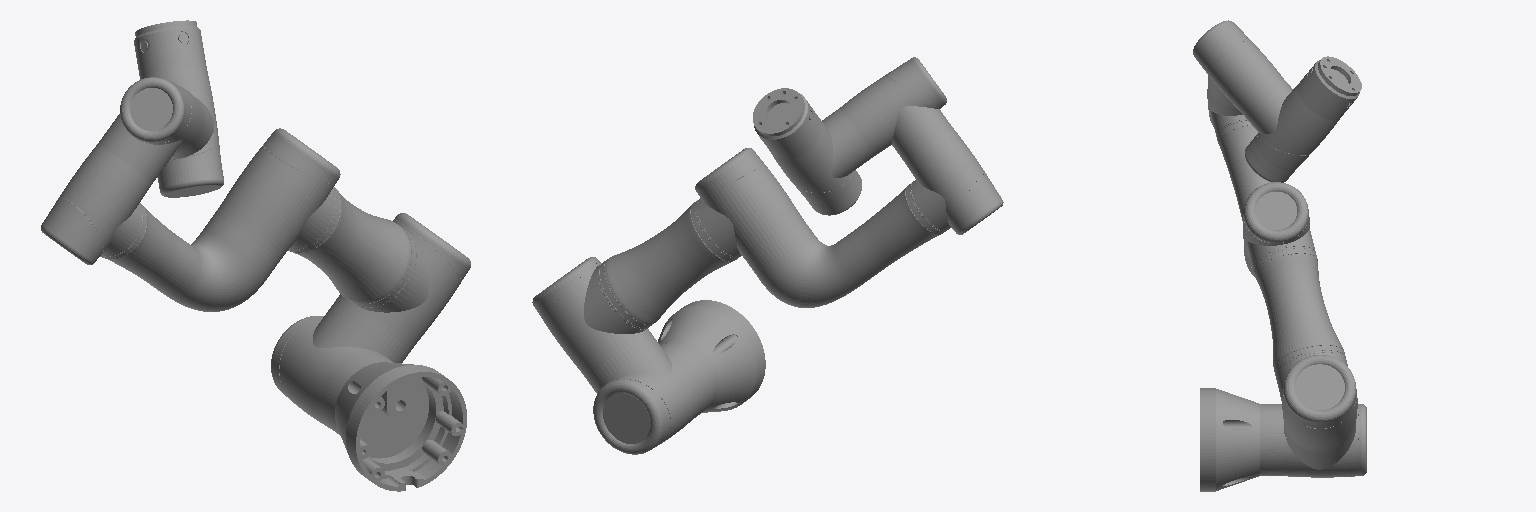
The robot description file, URDF, robot "lexium_cobot":
<?xml version='1.0' encoding='utf-8'?>
<robot name="lexium_cobot">
  <material name="silver_default">
    <color rgba="0.700 0.700 0.700 1.000" />
  </material>
  <material name="steel_satin">
    <color rgba="0.6274509803921569 0.6274509803921569 0.6274509803921569 1.0" />
  </material>
  <material name="opaque128128128">
    <color rgba="0.5019607843137255 0.5019607843137255 0.5019607843137255 1.0" />
  </material>
  <material name="opaque8234255">
    <color rgba="0.03137254901960784 0.9176470588235294 1.0 1.0" />
  </material>
  <link name="base_link">
    <inertial>
      <origin xyz="-1.79516985295832e-05 0.151105514389719 0.301538306998057" rpy="0 0 0" />
      <mass value="3.61395776119154" />
      <inertia ixx="0.00504736530150618" iyy="0.00645485524011707" izz="0.0049786607932636" ixy="-2.99057229168703e-06" iyz="8.4744786668145e-05" ixz="-7.45238623994263e-07" />
    </inertial>
    <visual>
      <origin xyz="0 0 0" rpy="0 0 0" />
      <geometry>
        <mesh filename="meshes/base_link.stl" scale="0.001 0.001 0.001" />
      </geometry>
      <material name="steel_satin" />
    </visual>
    <collision>
      <origin xyz="0 0 0" rpy="0 0 0" />
      <geometry>
        <mesh filename="meshes/base_link.stl" scale="0.001 0.001 0.001" />
      </geometry>
    </collision>
  </link>
  <link name="link1_1">
    <inertial>
      <origin xyz="0.0021986769731210743 0.06114654978338466 0.002407878971755706" rpy="0 0 0" />
      <mass value="6.94183133993744" />
      <inertia ixx="0.0120834986222533" iyy="0.00827270261468593" izz="0.0120417048097821" ixy="-4.71558628695429e-05" iyz="-5.16406557065086e-05" ixz="-0.000229534473903786" />
    </inertial>
    <visual>
      <origin xyz="-0.0 -0.18605 -0.3" rpy="0 0 0" />
      <geometry>
        <mesh filename="meshes/link1_1.stl" scale="0.001 0.001 0.001" />
      </geometry>
      <material name="steel_satin" />
    </visual>
    <collision>
      <origin xyz="-0.0 -0.18605 -0.3" rpy="0 0 0" />
      <geometry>
        <mesh filename="meshes/link1_1.stl" scale="0.001 0.001 0.001" />
      </geometry>
    </collision>
  </link>
  <link name="link2_1">
    <inertial>
      <origin xyz="-0.04086641207463965 -0.02526076643542069 0.12013524009765597" rpy="0 0 0" />
      <mass value="18.2263714660451" />
      <inertia ixx="0.111054724157452" iyy="0.20630792520748" izz="0.13115609185578" ixy="-0.0306468338100659" iyz="0.0272896376185414" ixz="0.0855224427705991" />
    </inertial>
    <visual>
      <origin xyz="-0.034052 -0.25055 -0.337292" rpy="0 0 0" />
      <geometry>
        <mesh filename="meshes/link2_1.stl" scale="0.001 0.001 0.001" />
      </geometry>
      <material name="steel_satin" />
    </visual>
    <collision>
      <origin xyz="-0.034052 -0.25055 -0.337292" rpy="0 0 0" />
      <geometry>
        <mesh filename="meshes/link2_1.stl" scale="0.001 0.001 0.001" />
      </geometry>
    </collision>
  </link>
  <link name="link3_1">
    <inertial>
      <origin xyz="-0.1293778038031144 -0.029972537517979125 0.0508468662676399" rpy="0 0 0" />
      <mass value="9.44716276125622" />
      <inertia ixx="0.0444128194190041" iyy="0.0834422152176089" izz="0.0523860618144881" ixy="-0.0127629729599289" iyz="0.0114022871624407" ixz="0.0349152547372071" />
    </inertial>
    <visual>
      <origin xyz="0.139553 -0.196049 -0.502925" rpy="0 0 0" />
      <geometry>
        <mesh filename="meshes/link3_1.stl" scale="0.001 0.001 0.001" />
      </geometry>
      <material name="steel_satin" />
    </visual>
    <collision>
      <origin xyz="0.139553 -0.196049 -0.502925" rpy="0 0 0" />
      <geometry>
        <mesh filename="meshes/link3_1.stl" scale="0.001 0.001 0.001" />
      </geometry>
    </collision>
  </link>
  <link name="link4_1">
    <inertial>
      <origin xyz="0.033981541796566817 0.008757011640967538 0.020888183603302246" rpy="0 0 0" />
      <mass value="3.87176073706246" />
      <inertia ixx="0.00450576060275387" iyy="0.00458656143301983" izz="0.00497596362049435" ixy="-0.00125667637032076" iyz="0.000980271401578137" ixz="0.000870265587519237" />
    </inertial>
    <visual>
      <origin xyz="0.292986 -0.14476 -0.664356" rpy="0 0 0" />
      <geometry>
        <mesh filename="meshes/link4_1.stl" scale="0.001 0.001 0.001" />
      </geometry>
      <material name="steel_satin" />
    </visual>
    <collision>
      <origin xyz="0.292986 -0.14476 -0.664356" rpy="0 0 0" />
      <geometry>
        <mesh filename="meshes/link4_1.stl" scale="0.001 0.001 0.001" />
      </geometry>
    </collision>
  </link>
  <link name="LINK5_1">
    <inertial>
      <origin xyz="0.02515402303233233 0.03494964400624864 -0.0051725179598975934" rpy="0 0 0" />
      <mass value="5.07662819267861" />
      <inertia ixx="0.0122560534206833" iyy="0.00932613016589956" izz="0.00657314891363592" ixy="-0.000916656335589072" iyz="-0.00424498081654923" ixz="-0.00108665355332227" />
    </inertial>
    <visual>
      <origin xyz="0.22108 -0.192071 -0.654896" rpy="0 0 0" />
      <geometry>
        <mesh filename="meshes/LINK5_1.stl" scale="0.001 0.001 0.001" />
      </geometry>
      <material name="steel_satin" />
    </visual>
    <collision>
      <origin xyz="0.22108 -0.192071 -0.654896" rpy="0 0 0" />
      <geometry>
        <mesh filename="meshes/LINK5_1.stl" scale="0.001 0.001 0.001" />
      </geometry>
    </collision>
  </link>
  <link name="gripper_finger_1_1">
    <inertial>
      <origin xyz="0.00168468893283244 0.03002158316308645 0.017931237582129" rpy="0 0 0" />
      <mass value="0.150880076877717" />
      <inertia ixx="0.000106067907401919" iyy="6.59674977273872e-05" izz="5.72022355376268e-05" ixy="4.61443985702668e-06" iyz="-4.59479751008865e-05" ixz="2.01096813705337e-06" />
    </inertial>
    <visual>
      <origin xyz="0.158171 -0.286394 -0.807959" rpy="0 0 0" />
      <geometry>
        <mesh filename="meshes/gripper_finger_1_1.stl" scale="0.001 0.001 0.001" />
      </geometry>
      <material name="opaque8234255" />
    </visual>
    <collision>
      <origin xyz="0.158171 -0.286394 -0.807959" rpy="0 0 0" />
      <geometry>
        <mesh filename="meshes/gripper_finger_1_1.stl" scale="0.001 0.001 0.001" />
      </geometry>
    </collision>
  </link>
  <link name="gripper_finger_2_1">
    <inertial>
      <origin xyz="0.007391643695090211 0.02716441349865817 0.02081065870123655" rpy="0 0 0" />
      <mass value="0.150880076877717" />
      <inertia ixx="0.000105006494743209" iyy="7.69111146820128e-05" izz="4.73200312417141e-05" ixy="-4.6116504817343e-06" iyz="-4.31422749654076e-05" ixz="-1.00349175395816e-05" />
    </inertial>
    <visual>
      <origin xyz="0.138522 -0.30756 -0.790017" rpy="0 0 0" />
      <geometry>
        <mesh filename="meshes/gripper_finger_2_1.stl" scale="0.001 0.001 0.001" />
      </geometry>
      <material name="opaque8234255" />
    </visual>
    <collision>
      <origin xyz="0.138522 -0.30756 -0.790017" rpy="0 0 0" />
      <geometry>
        <mesh filename="meshes/gripper_finger_2_1.stl" scale="0.001 0.001 0.001" />
      </geometry>
    </collision>
  </link>
  <link name="gripper_finger_3_1">
    <inertial>
      <origin xyz="0.013562467977353804 0.022993721881954976 0.022649342570990383" rpy="0 0 0" />
      <mass value="0.150880076877717" />
      <inertia ixx="0.00010413072305776" iyy="7.93304287073082e-05" izz="4.57764889018261e-05" ixy="-6.10553324077376e-06" iyz="-4.19243591121207e-05" ixz="-1.27562578668278e-05" />
    </inertial>
    <visual>
      <origin xyz="0.216087 -0.325537 -0.790707" rpy="0 0 0" />
      <geometry>
        <mesh filename="meshes/gripper_finger_3_1.stl" scale="0.001 0.001 0.001" />
      </geometry>
      <material name="opaque8234255" />
    </visual>
    <collision>
      <origin xyz="0.216087 -0.325537 -0.790707" rpy="0 0 0" />
      <geometry>
        <mesh filename="meshes/gripper_finger_3_1.stl" scale="0.001 0.001 0.001" />
      </geometry>
    </collision>
  </link>
  <link name="gripper_finger_4_1">
    <inertial>
      <origin xyz="0.01356278786088641 0.02299421952763131 0.0226490479149144" rpy="0 0 0" />
      <mass value="0.150880076877717" />
      <inertia ixx="0.000104130723057802" iyy="7.93304287073082e-05" izz="4.57764889018296e-05" ixy="-6.10553324077029e-06" iyz="-4.19243591121346e-05" ixz="-1.27562578668278e-05" />
    </inertial>
    <visual>
      <origin xyz="0.196438 -0.346702 -0.772765" rpy="0 0 0" />
      <geometry>
        <mesh filename="meshes/gripper_finger_4_1.stl" scale="0.001 0.001 0.001" />
      </geometry>
      <material name="opaque8234255" />
    </visual>
    <collision>
      <origin xyz="0.196438 -0.346702 -0.772765" rpy="0 0 0" />
      <geometry>
        <mesh filename="meshes/gripper_finger_4_1.stl" scale="0.001 0.001 0.001" />
      </geometry>
    </collision>
  </link>
  <link name="gripper_base_1">
    <inertial>
      <origin xyz="0.005484957256052081 0.022455029425535122 0.03248851137340725" rpy="0 0 0" />
      <mass value="1.09820473983434" />
      <inertia ixx="0.000905228673459435" iyy="0.000804641824742269" izz="0.000665029281367885" ixy="1.45784296323864e-05" iyz="-0.000205635358270534" ixz="-7.70043981378754e-05" />
    </inertial>
    <visual>
      <origin xyz="0.18353 -0.273357 -0.713266" rpy="0 0 0" />
      <geometry>
        <mesh filename="meshes/gripper_base_1.stl" scale="0.001 0.001 0.001" />
      </geometry>
      <material name="opaque128128128" />
    </visual>
    <collision>
      <origin xyz="0.18353 -0.273357 -0.713266" rpy="0 0 0" />
      <geometry>
        <mesh filename="meshes/gripper_base_1.stl" scale="0.001 0.001 0.001" />
      </geometry>
    </collision>
  </link>
  <joint name="joint_1" type="revolute">
    <origin xyz="0.0 0.18605 0.3" rpy="0 0 0" />
    <parent link="base_link" />
    <child link="link1_1" />
    <axis xyz="-0.0 -1.0 0.0" />
    <limit lower="-3.141593" upper="3.141593" effort="100" velocity="1.0" />
  </joint>
  <joint name="joint_2" type="revolute">
    <origin xyz="0.034052 0.0645 0.037292" rpy="0 0 0" />
    <parent link="link1_1" />
    <child link="link2_1" />
    <axis xyz="-0.674302 0.0 -0.738455" />
    <limit lower="-3.141593" upper="3.141593" effort="100" velocity="1.0" />
  </joint>
  <joint name="joint_3" type="revolute">
    <origin xyz="-0.173605 -0.054501 0.165633" rpy="0 0 0" />
    <parent link="link2_1" />
    <child link="link3_1" />
    <axis xyz="-0.674302 0.0 -0.738455" />
    <limit lower="-3.141593" upper="3.141593" effort="100" velocity="1.0" />
  </joint>
  <joint name="joint_4" type="revolute">
    <origin xyz="-0.153433 -0.051289 0.161431" rpy="0 0 0" />
    <parent link="link3_1" />
    <child link="link4_1" />
    <axis xyz="0.674302 -0.0 0.738455" />
    <limit lower="-3.141593" upper="3.141593" effort="100" velocity="1.0" />
  </joint>
  <joint name="joint_5" type="revolute">
    <origin xyz="0.071906 0.047311 -0.00946" rpy="0 0 0" />
    <parent link="link4_1" />
    <child link="LINK5_1" />
    <axis xyz="-0.577921 -0.622515 0.527715" />
    <limit lower="-3.141593" upper="3.141593" effort="100" velocity="1.0" />
  </joint>
  <joint name="gripper_Revolute_1" type="revolute">
    <origin xyz="0.025359 0.013037 0.094693" rpy="0 0 0" />
    <parent link="gripper_base_1" />
    <child link="gripper_finger_1_1" />
    <axis xyz="-0.577921 -0.622515 0.527715" />
    <limit upper="0.130900" lower="-1.780236" effort="100" velocity="100" />
  </joint>
  <joint name="gripper_Revolute_2" type="revolute">
    <origin xyz="0.045008 0.034203 0.076751" rpy="0 0 0" />
    <parent link="gripper_base_1" />
    <child link="gripper_finger_2_1" />
    <axis xyz="-0.577921 -0.622515 0.527715" />
    <limit upper="0.340339" lower="-1.570796" effort="100" velocity="100" />
  </joint>
  <joint name="gripper_Revolute_5" type="revolute">
    <origin xyz="-0.032557 0.05218 0.077441" rpy="0 0 0" />
    <parent link="gripper_base_1" />
    <child link="gripper_finger_3_1" />
    <axis xyz="0.577921 0.622515 -0.527715" />
    <limit upper="1.570796" lower="-0.349066" effort="100" velocity="100" />
  </joint>
  <joint name="gripper_Revolute_6" type="revolute">
    <origin xyz="-0.012908 0.073345 0.059499" rpy="0 0 0" />
    <parent link="gripper_base_1" />
    <child link="gripper_finger_4_1" />
    <axis xyz="0.577921 0.622515 -0.527715" />
    <limit upper="1.570796" lower="-0.340339" effort="100" velocity="100" />
  </joint>
  <joint name="joint_6_gripper_rotation" type="revolute">
    <origin xyz="0.03755 0.081286 0.05837" rpy="0 0 0" />
    <parent link="LINK5_1" />
    <child link="gripper_base_1" />
    <axis xyz="0.13773 0.562961 0.814926" />
    <limit lower="-3.141593" upper="3.141593" effort="100" velocity="1.0" />
  </joint>
</robot>

--- What the picture shows (computed from the rendered views, not written in the file) ---
Views: 3 orthographic renders of the robot side by side, from view 1: azimuth 30°, elevation 25°; view 2: azimuth 150°, elevation 25°; view 3: azimuth 270°, elevation 25°.
Model lexium_cobot with 11 links and 10 joints (10 revolute), rooted at base_link, posed every joint at zero.
Visible links, largest first — view 1: link2_1, link3_1, base_link, LINK5_1, link1_1, link4_1; view 2: link2_1, link3_1, link1_1, LINK5_1, link4_1, base_link; view 3: link2_1, LINK5_1, base_link, link4_1, link1_1, link3_1.
Link boxes in pixels (x1,y1,x2,y2): link2_1: (206, 128, 470, 361); link3_1: (41, 129, 270, 311); base_link: (329, 358, 466, 491); LINK5_1: (134, 20, 223, 197); link1_1: (271, 310, 402, 433); link4_1: (109, 77, 207, 167); link2_1: (532, 148, 813, 387); link3_1: (757, 115, 1003, 307); link1_1: (593, 342, 713, 454); LINK5_1: (753, 88, 861, 215); link4_1: (827, 57, 946, 165); base_link: (658, 300, 765, 412); link2_1: (1243, 182, 1357, 457); LINK5_1: (1245, 56, 1361, 182); base_link: (1200, 388, 1267, 491); link4_1: (1193, 20, 1291, 124); link1_1: (1268, 404, 1366, 477); link3_1: (1207, 81, 1270, 277).
Bounding box of the posed robot: 0.5453 × 0.2179 × 0.5099 m (x, y, z).
Meshes: 11 distinct files referenced, 6 mesh visuals loaded (6 binary STL); not drawn: 5 (reference not matched to a file when rendering).
